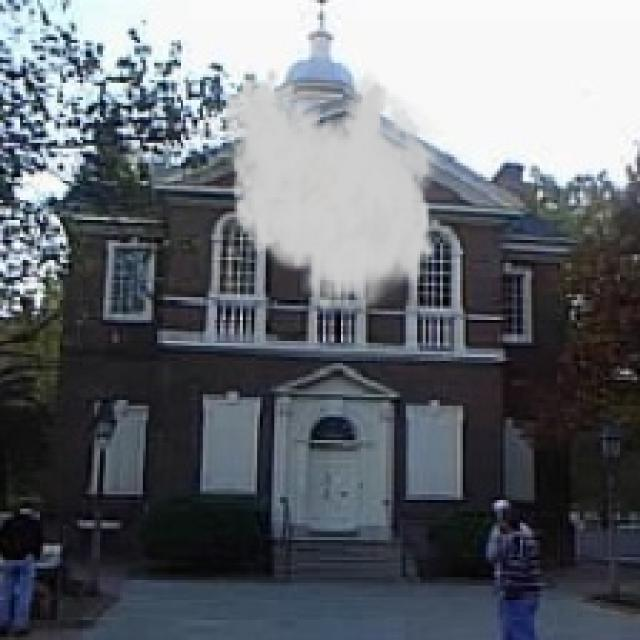smoke: (220, 66, 449, 320)
